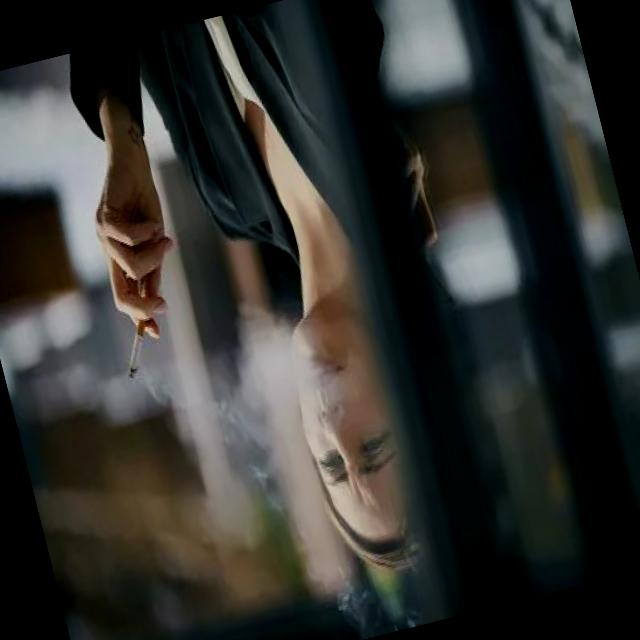smoke: (109, 304, 168, 386)
